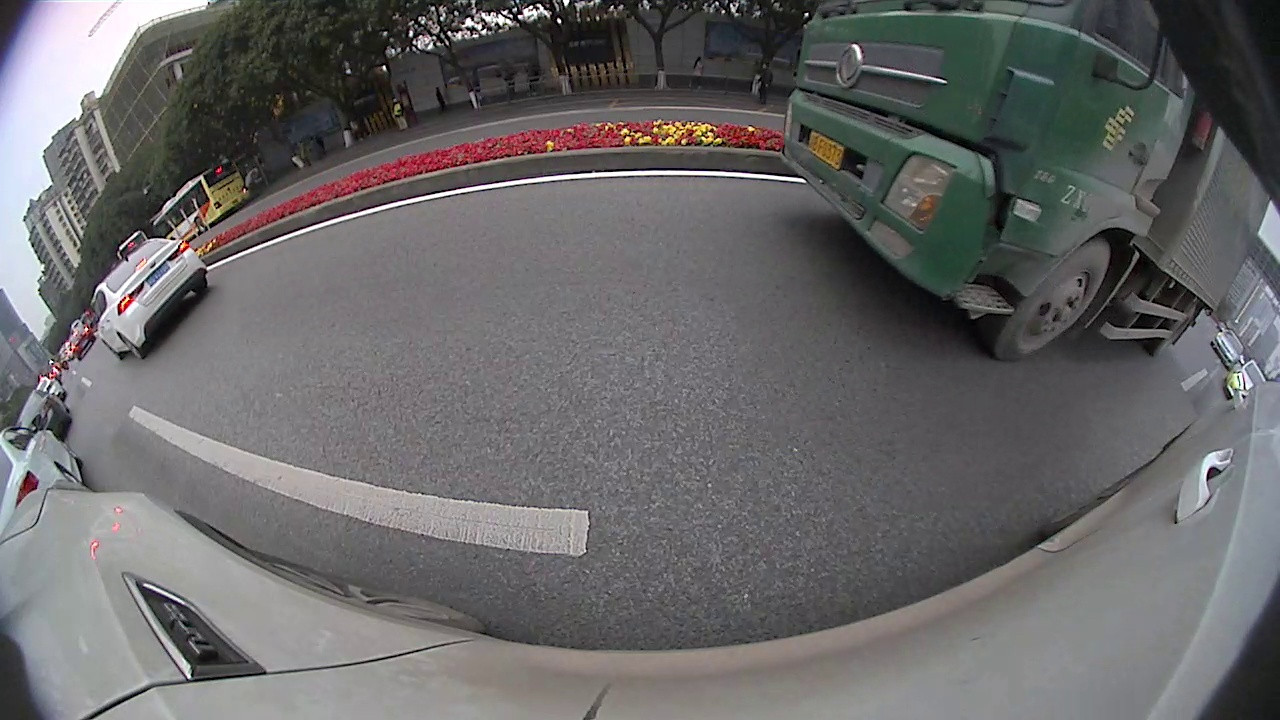bus: (150, 156, 251, 241)
car: (88, 237, 210, 360), (0, 426, 84, 530), (19, 391, 70, 441), (1228, 360, 1268, 402), (1211, 329, 1248, 364), (66, 323, 96, 360)
front: (993, 241, 1111, 364)
truck: (786, 1, 1269, 364)
